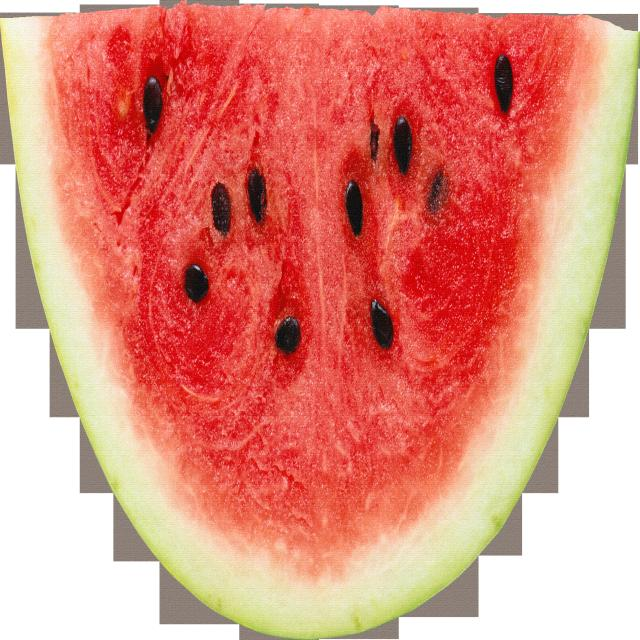watermelon: (1, 16, 639, 640)
